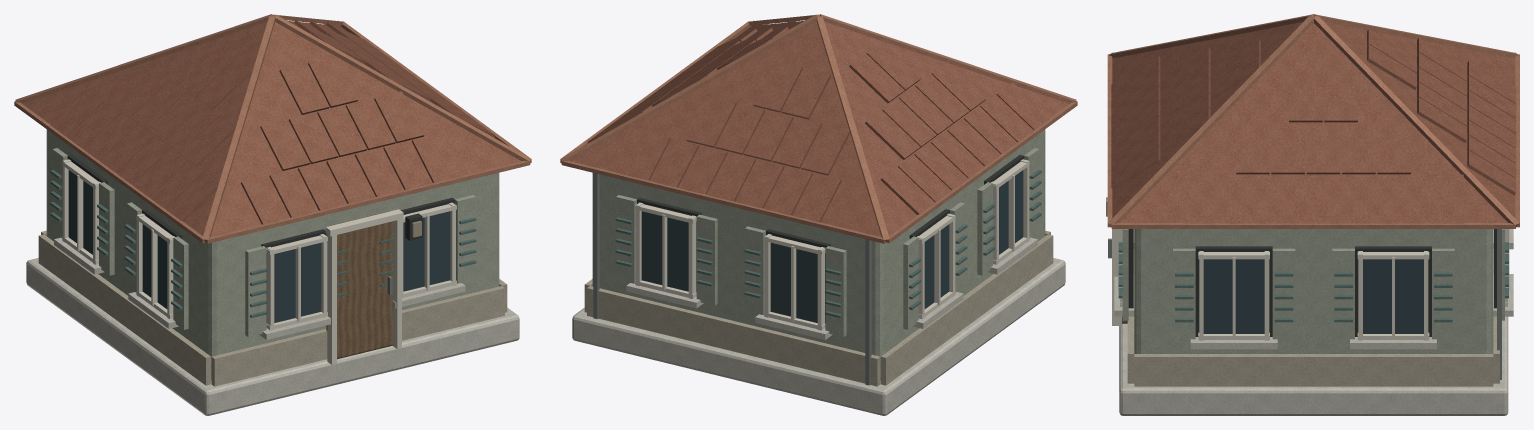
File: RES_LOW_1x1_002.glb
3 renders of one model, left to right at view 1: azimuth 30°, elevation 25°; view 2: azimuth 150°, elevation 25°; view 3: azimuth 270°, elevation 25°, orthographic. The views are drawn at different scales.
Visible parts, largest first — view 1: RES_LOW_1x1_002_Visual; view 2: RES_LOW_1x1_002_Visual; view 3: RES_LOW_1x1_002_Visual.
Part boxes in pixels (bbox=[...]): RES_LOW_1x1_002_Visual: bbox=[14, 14, 531, 415]; RES_LOW_1x1_002_Visual: bbox=[560, 14, 1077, 415]; RES_LOW_1x1_002_Visual: bbox=[1106, 14, 1519, 415].
Size of what is drawn, in the model's own units: 1.62 by 1.4 by 1.64.
Materials: 12 (7 with a texture image).
